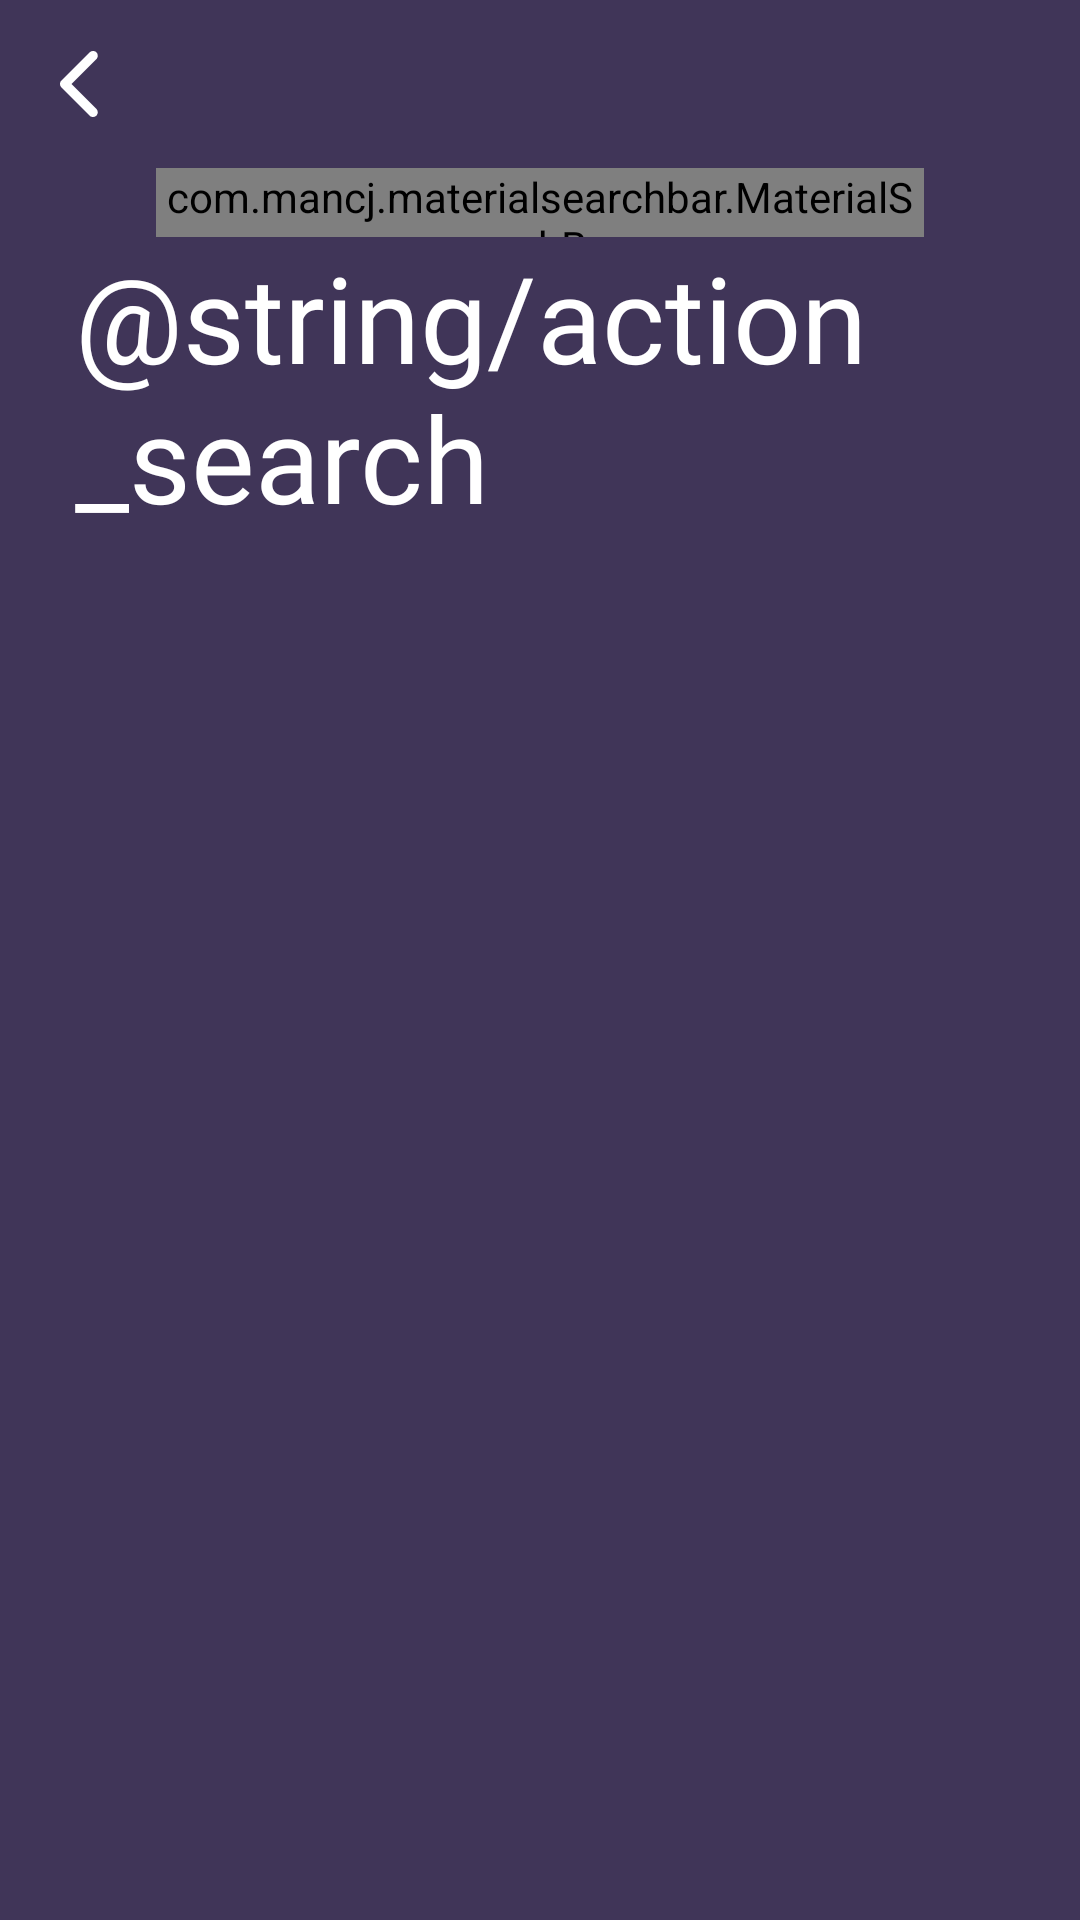

Icons on this 1080x1920 Android screen, each with the point to tap as point (x, y):
back: point (79, 84)
